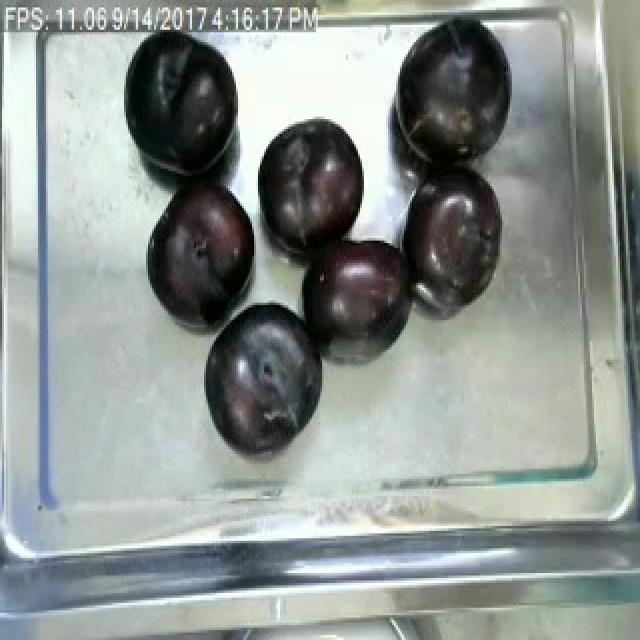Fruit: (196, 298, 330, 457), (390, 15, 514, 169), (142, 176, 264, 330), (118, 32, 244, 181), (250, 112, 374, 258), (292, 226, 424, 362), (400, 168, 508, 308)
